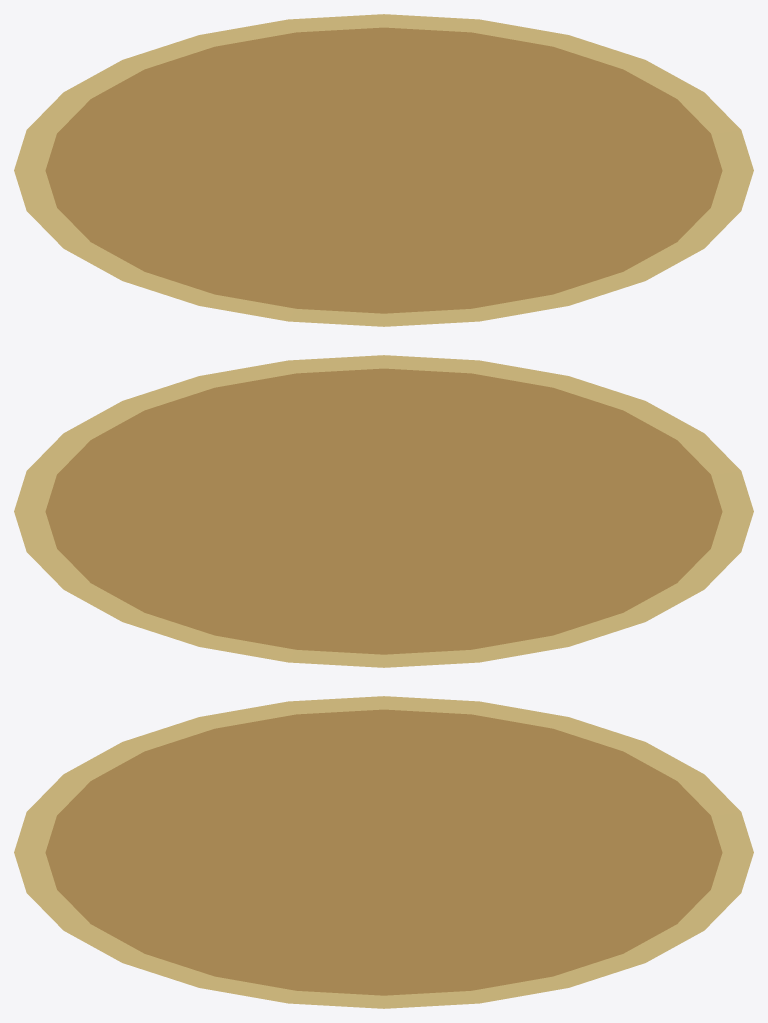
File: PF_ArenaDirtPatch.fbx
The picture shows the model from 3 angles, top to bottom: view 1: azimuth 30°, elevation 25°; view 2: azimuth 150°, elevation 25°; view 3: azimuth 270°, elevation 25°; orthographic projection.
Visible parts, largest first — view 1: DirtPatch; view 2: DirtPatch; view 3: DirtPatch.
Part boxes in pixels (x1=…): DirtPatch: x1=14, y1=14, x2=753, y2=326; DirtPatch: x1=14, y1=355, x2=753, y2=667; DirtPatch: x1=14, y1=696, x2=753, y2=1008.
Bounding box in the file's own units: 10.8 × 0.002 × 10.8.
